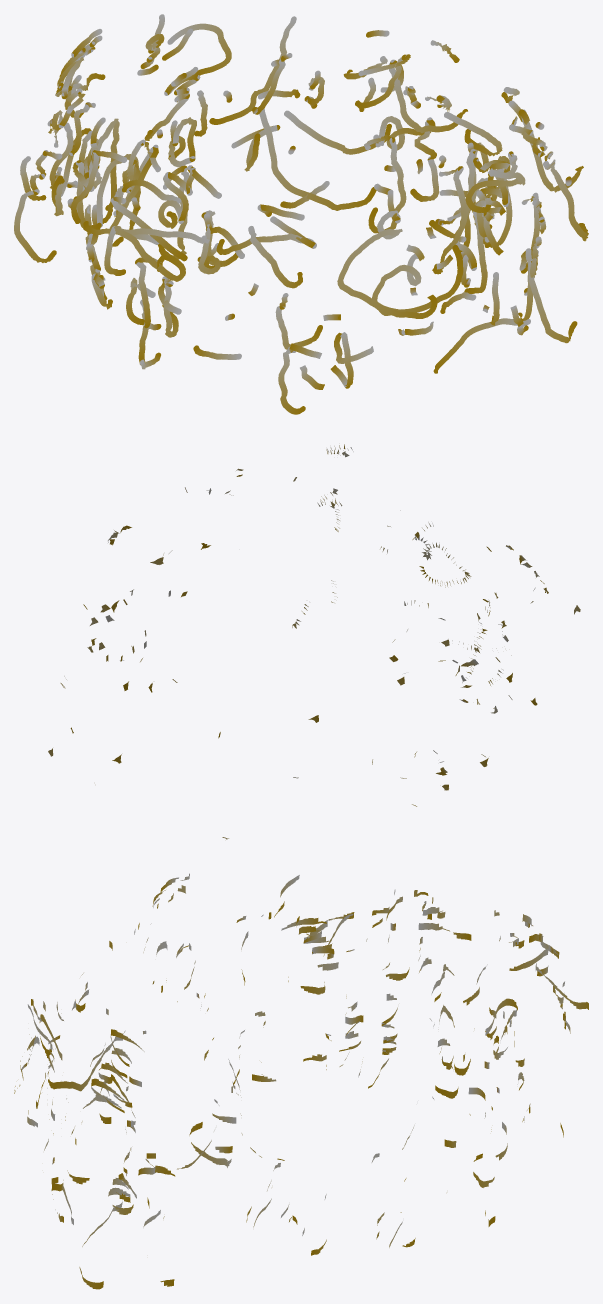
Rendered from Artwork_Mesh.glb.
The picture shows the model from 3 angles, top to bottom: view 1: azimuth 30°, elevation 25°; view 2: azimuth 150°, elevation 25°; view 3: azimuth 270°, elevation 25°; orthographic projection. The views are drawn at different scales.
Parts seen in each view (by area): view 1: Mesh_Renderer_52, Mesh_Renderer_65, Mesh_Renderer_255, Mesh_Renderer_134, Mesh_Renderer_127, Mesh_Renderer_188, Mesh_Renderer_186, Mesh_Renderer_104, Mesh_Renderer_17, Mesh_Renderer_189, Mesh_Renderer_259, Mesh_Renderer_38 (+12 smaller); view 2: no part large enough to name; view 3: no part large enough to name.
Boxes of the visible parts, x1,y1,x2,y2 form: Mesh_Renderer_52: [337, 210, 463, 312]; Mesh_Renderer_65: [114, 226, 209, 281]; Mesh_Renderer_255: [259, 109, 376, 210]; Mesh_Renderer_134: [371, 253, 437, 318]; Mesh_Renderer_127: [465, 168, 525, 213]; Mesh_Renderer_188: [209, 16, 296, 124]; Mesh_Renderer_186: [167, 23, 231, 75]; Mesh_Renderer_104: [388, 59, 467, 133]; Mesh_Renderer_17: [89, 118, 119, 223]; Mesh_Renderer_189: [284, 110, 391, 154]; Mesh_Renderer_259: [368, 137, 406, 233]; Mesh_Renderer_38: [444, 112, 502, 156].
Size of the model in its own units: 2.92 by 1.38 by 2.95.
